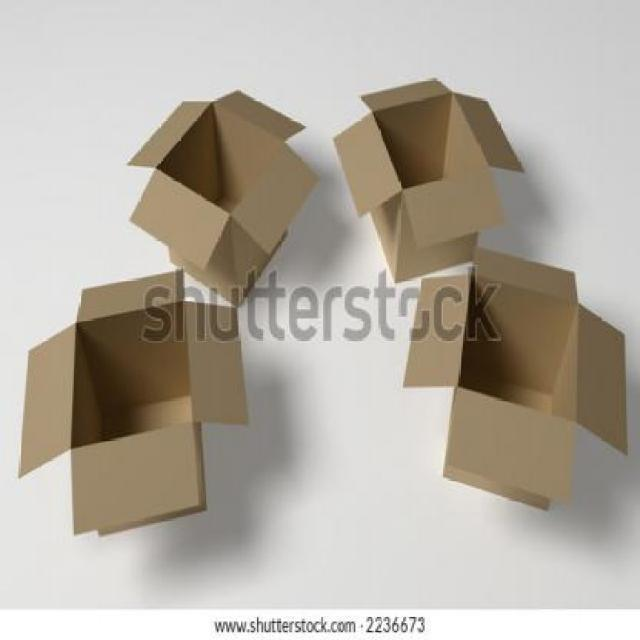box: (394, 239, 619, 511), (17, 273, 243, 528), (137, 86, 291, 289), (339, 88, 489, 258)
